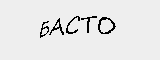А: (49, 18, 63, 39)
Б: (39, 21, 50, 39)
О: (98, 17, 115, 35)
С: (66, 15, 80, 36)
Т: (79, 15, 95, 34)
